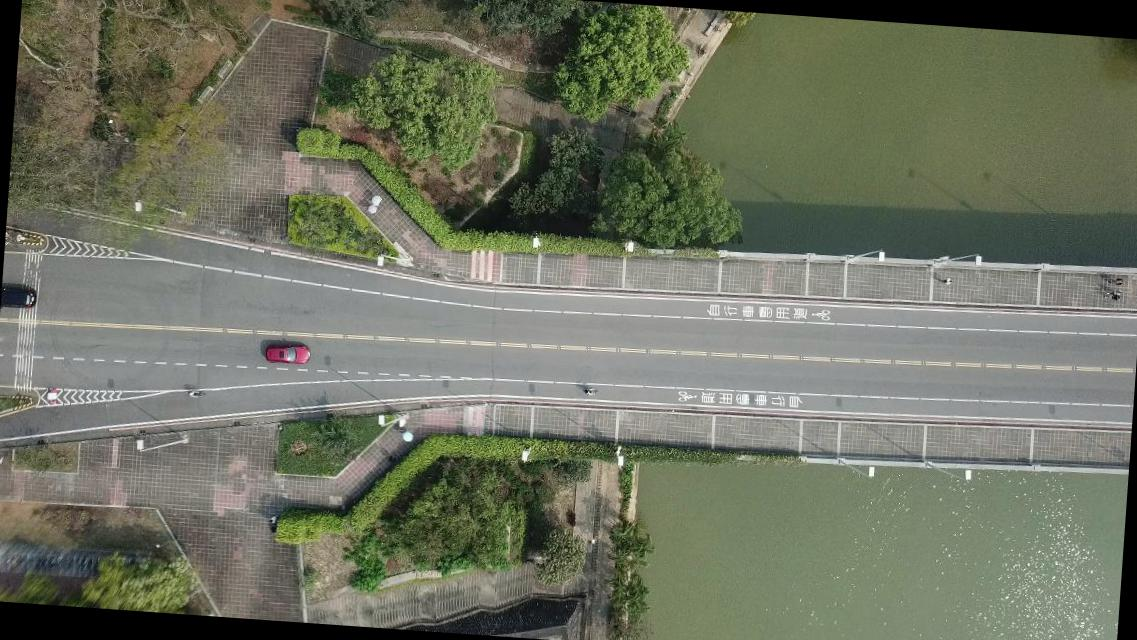vehicle: (264, 342, 310, 364), (0, 286, 36, 310)
